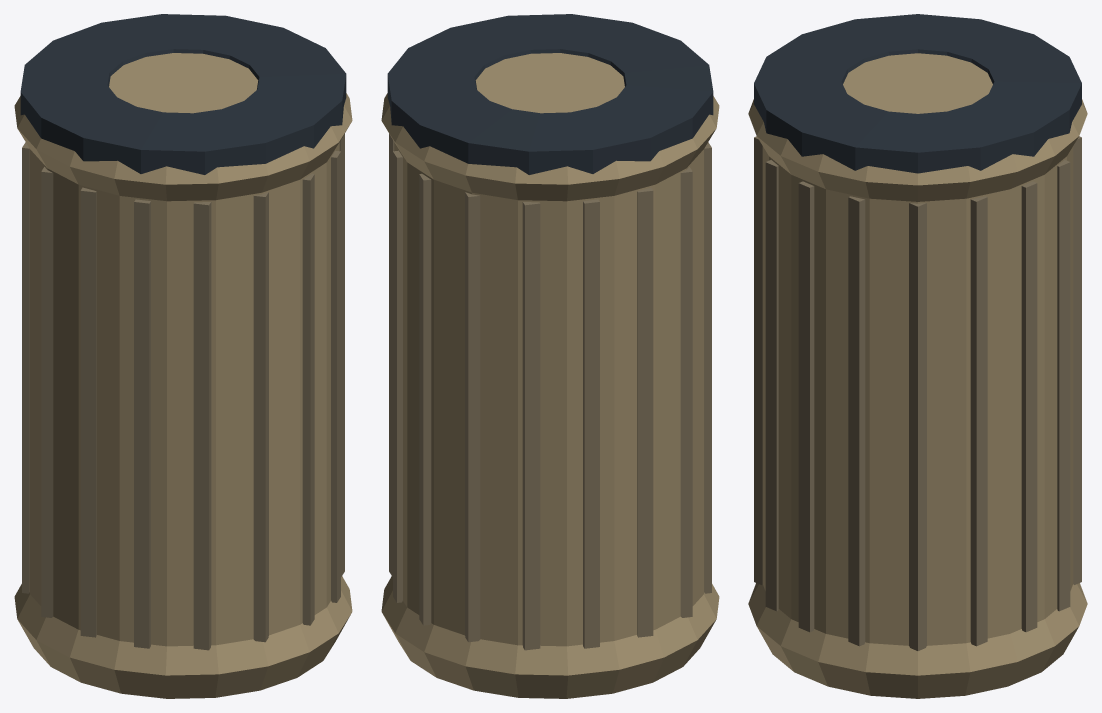
File: E-03_filter_cartridge.glb
3 views of the same model, side by side, from view 1: azimuth 30°, elevation 25°; view 2: azimuth 150°, elevation 25°; view 3: azimuth 270°, elevation 25° (orthographic).
Visible parts, largest first — view 1: E-03_filter_cartridge; view 2: E-03_filter_cartridge; view 3: E-03_filter_cartridge.
Boxes of the visible parts, x1,y1,x2,y2 form: E-03_filter_cartridge: [14, 14, 352, 698]; E-03_filter_cartridge: [381, 14, 719, 698]; E-03_filter_cartridge: [748, 14, 1087, 698].
Size of the model in its own units: 0.182 by 0.327 by 0.182.
